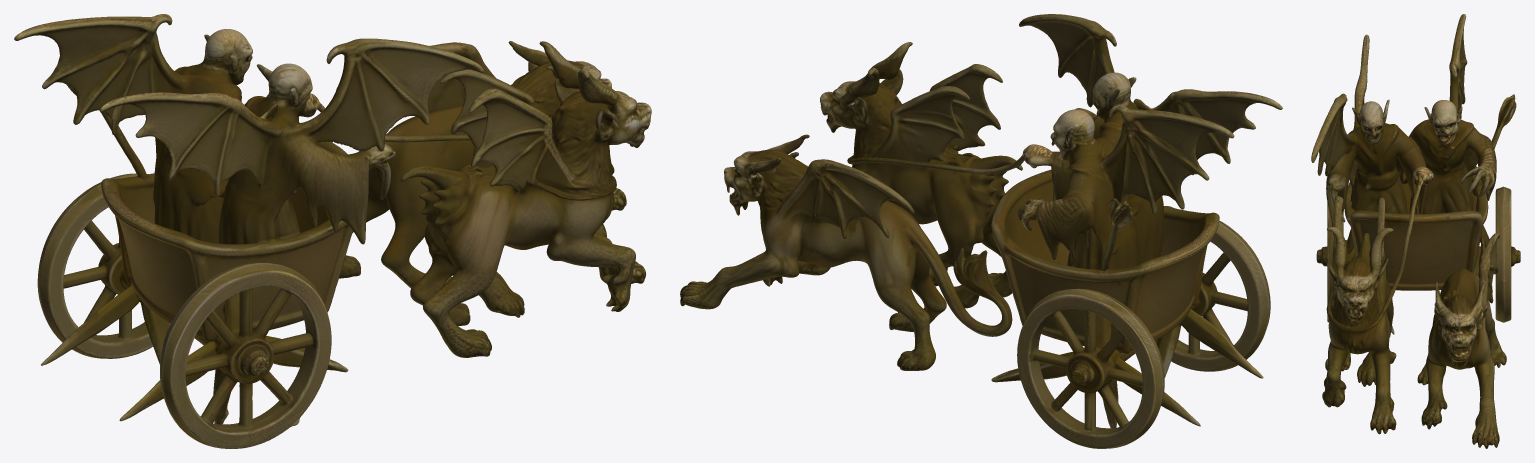
3 views of the same model, side by side, from view 1: azimuth 30°, elevation 25°; view 2: azimuth 150°, elevation 25°; view 3: azimuth 270°, elevation 25° (orthographic). The views are drawn at different scales.
Parts seen in each view (by area): view 1: tripo_node_51e19cf1-1a49-48d7-a812-3dc9980ea485; view 2: tripo_node_51e19cf1-1a49-48d7-a812-3dc9980ea485; view 3: tripo_node_51e19cf1-1a49-48d7-a812-3dc9980ea485.
Boxes of the visible parts, x1,y1,x2,y2 form: tripo_node_51e19cf1-1a49-48d7-a812-3dc9980ea485: (14,14,651,448); tripo_node_51e19cf1-1a49-48d7-a812-3dc9980ea485: (680,14,1282,448); tripo_node_51e19cf1-1a49-48d7-a812-3dc9980ea485: (1311,14,1520,448).
Bounding box in the file's own units: 1 × 0.6111 × 0.4226.
1 material, 1 textured.
